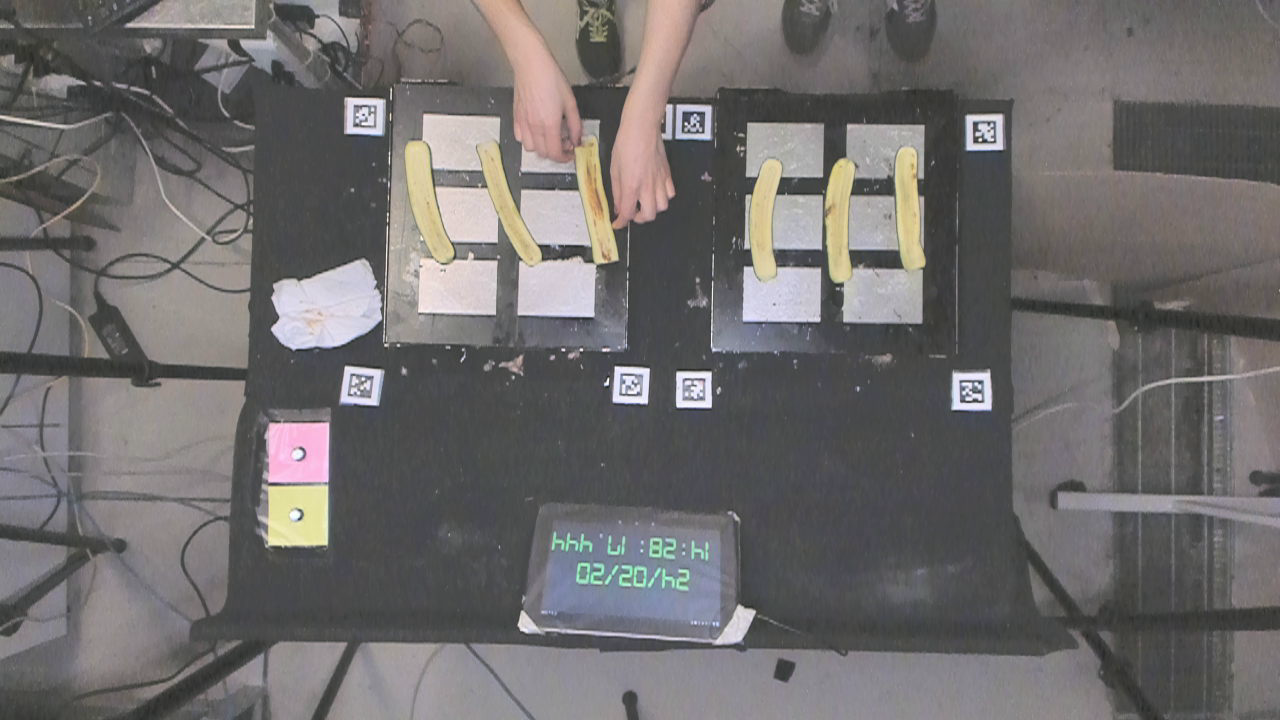marker: (265, 419, 331, 485)
zucchini: (474, 132, 550, 267), (400, 137, 463, 270), (568, 132, 621, 274), (886, 142, 935, 274), (816, 154, 861, 288), (743, 150, 785, 287)
